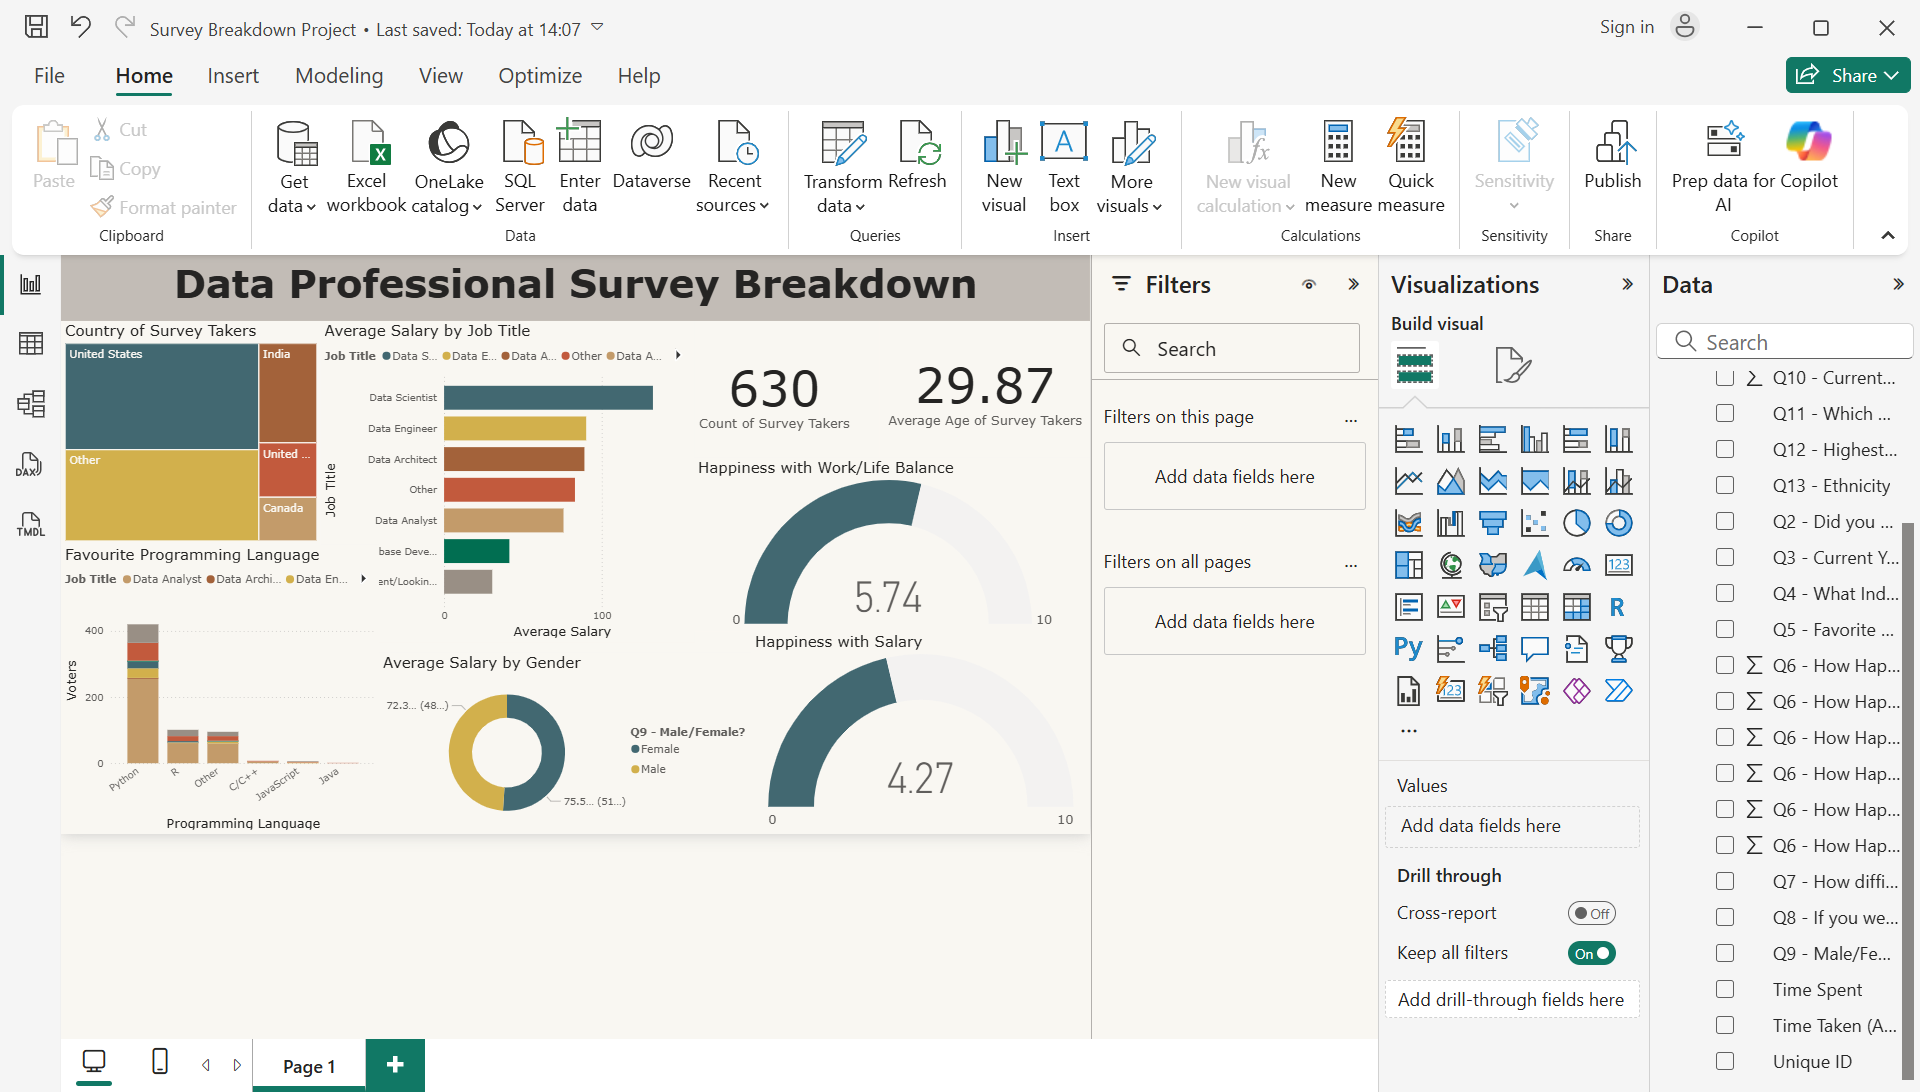

The page's visual inventory and layout, read from the dashboard file:
{"tool":"powerbi","page":{"name":"Page 1","canvas":[1280,720],"ordinal":0},"visuals":[{"type":"textbox","box":[0,0,1279.4,82.1],"z":0},{"type":"card","fields":{"Values":["Count(Data Professional Survey.Unique ID)"]},"box":[755.9,81.3,262.7,177.6],"z":1000},{"type":"card","fields":{"Values":["Avg(Data Professional Survey.Q10 - Current Age)"]},"box":[1018.6,81.3,260.8,170.1],"z":2000},{"type":"barChart","title":"Average Salary by Job Title ","fields":{"Category":["Data Professional Survey.Q1 - Which Title Best Fits your Current Role?.1"],"Y":["Avg(Data Professional Survey.Average Salary)"],"Series":["Data Professional Survey.Q1 - Which Title Best Fits your Current Role?.1"]},"box":[322.6,82.1,464.4,399.1],"z":3000},{"type":"columnChart","title":"Favourite Programming Language ","fields":{"Category":["Data Professional Survey.Q5 - Favorite Programming Language.1"],"Y":["CountNonNull(Data Professional Survey.Unique ID)"],"Series":["Data Professional Survey.Q1 - Which Title Best Fits your Current Role?.1"]},"box":[0,359.9,395.4,359.9],"z":4000},{"type":"treemap","title":"Country of Survey Takers","fields":{"Group":["Data Professional Survey.Q11 - Which Country do you live in?.1"],"Values":["CountNonNull(Data Professional Survey.Q11 - Which Country do you live in?.1)"]},"box":[0,82.1,322.6,277.9],"z":5000},{"type":"gauge","title":"Happiness with Salary","fields":{"Y":["Avg(Data Professional Survey.Q6 - How Happy are you in your Current Position with the following? (Salary))"],"MinValue":["Min(Data Professional Survey.Q6 - How Happy are you in your Current Position with the following? (Salary))"],"MaxValue":["Max(Data Professional Survey.Q6 - How Happy are you in your Current Position with the following? (Salary))1"]},"box":[857.9,468.1,421.5,251.8],"z":6000},{"type":"gauge","title":"Happiness with Work/Life Balance","fields":{"Y":["Avg(Data Professional Survey.Q6 - How Happy are you in your Current Position with the following? (Work/Life Balance))"],"MinValue":["Min(Data Professional Survey.Q6 - How Happy are you in your Current Position with the following? (Work/Life Balance))1"],"MaxValue":["Max(Data Professional Survey.Q6 - How Happy are you in your Current Position with the following? (Work/Life Balance))2"]},"box":[787,251.8,492.4,216.3],"z":7000},{"type":"donutChart","title":"Average Salary by Gender","fields":{"Category":["Data Professional Survey.Q9 - Male/Female?"],"Y":["Avg(Data Professional Survey.Average Salary)"]},"box":[395.4,494.2,462.5,225.7],"z":8000}]}

Visuals, with their boxes on the page's 1280x720 design canvas (x1, y1, x2, y2). These are canvas units, not pixel positions in the 1920x1092 screenshot, which may show the page scaled, cropped or inside an application window:
textbox: [left=0, top=0, right=1279, bottom=82]
card - Count(Data Professional Survey.Unique ID): [left=756, top=81, right=1019, bottom=259]
card - Avg(Data Professional Survey.Q10 - Current Age): [left=1019, top=81, right=1279, bottom=251]
"Average Salary by Job Title " barChart: [left=323, top=82, right=787, bottom=481]
"Favourite Programming Language " columnChart: [left=0, top=360, right=395, bottom=720]
"Country of Survey Takers" treemap: [left=0, top=82, right=323, bottom=360]
"Happiness with Salary" gauge: [left=858, top=468, right=1279, bottom=720]
"Happiness with Work/Life Balance" gauge: [left=787, top=252, right=1279, bottom=468]
"Average Salary by Gender" donutChart: [left=395, top=494, right=858, bottom=720]
